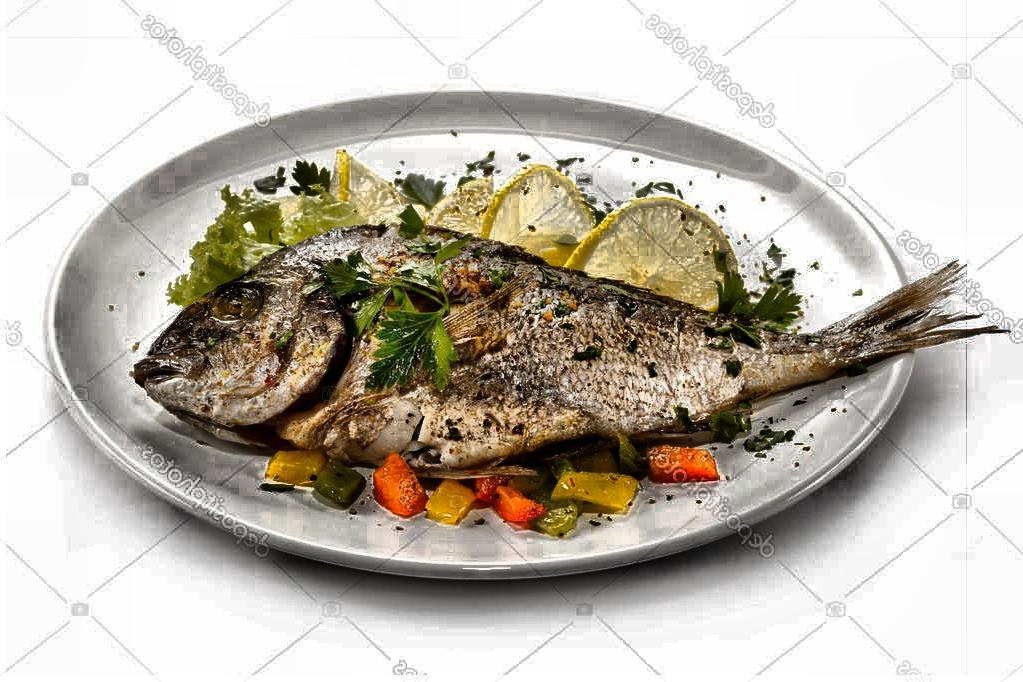fish: (63, 210, 983, 536)
